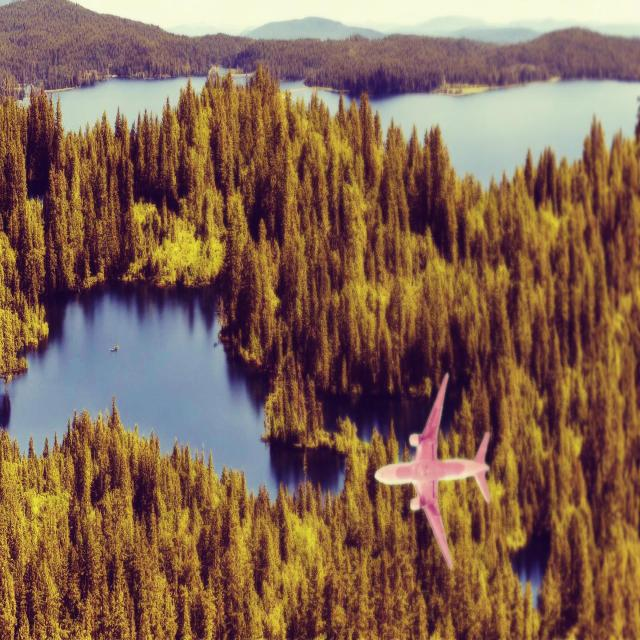airplane: (374, 372, 491, 570)
